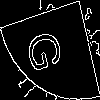G: (25, 25, 71, 75)
